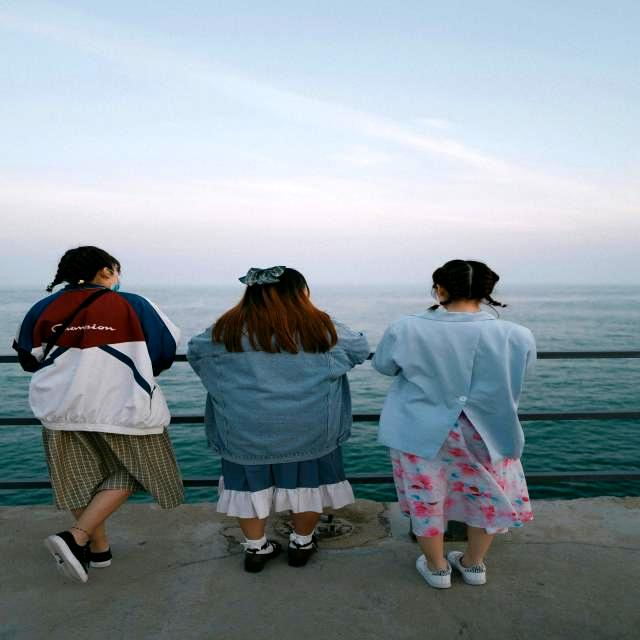no_hard_hat: (239, 265, 288, 287)
no_head_wear: (58, 246, 120, 272), (432, 260, 499, 284)
person: (15, 246, 184, 582), (188, 266, 369, 572), (372, 260, 535, 588)
